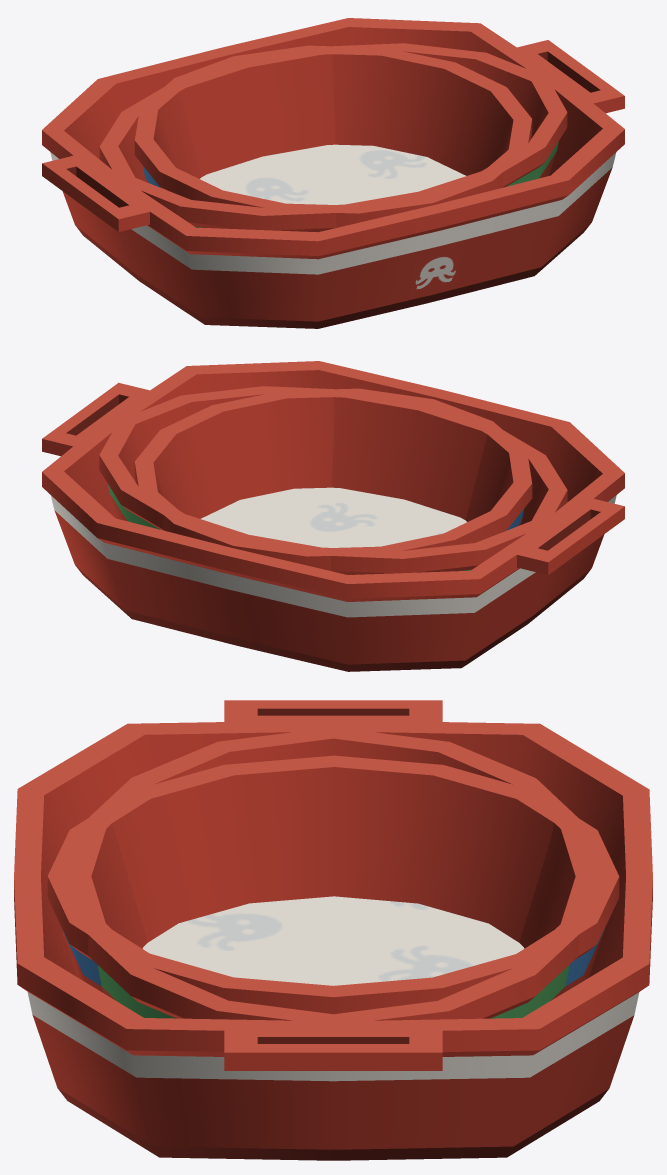
The picture shows the model from 3 angles, top to bottom: view 1: azimuth 30°, elevation 25°; view 2: azimuth 150°, elevation 25°; view 3: azimuth 270°, elevation 25°; orthographic projection. The views are drawn at different scales.
Parts seen in each view (by area): view 1: box_large, box_medium, box_small; view 2: box_large, box_medium, box_small; view 3: box_large, box_small, box_medium.
Boxes of the visible parts, left/top/right/bottom form: box_large: left=42, top=18, right=624, bottom=328; box_medium: left=99, top=43, right=567, bottom=232; box_small: left=134, top=45, right=532, bottom=227; box_large: left=42, top=361, right=624, bottom=671; box_medium: left=99, top=386, right=567, bottom=574; box_small: left=134, top=388, right=532, bottom=570; box_large: left=14, top=700, right=652, bottom=1160; box_small: left=47, top=755, right=619, bottom=1014; box_medium: left=64, top=727, right=602, bottom=1025.
Bounding box in the file's own units: 0.496 × 0.106 × 0.38.
Materials: 4 (3 with a texture image).
